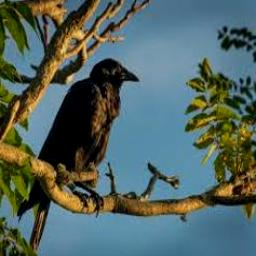Crow: (17, 58, 139, 251)
